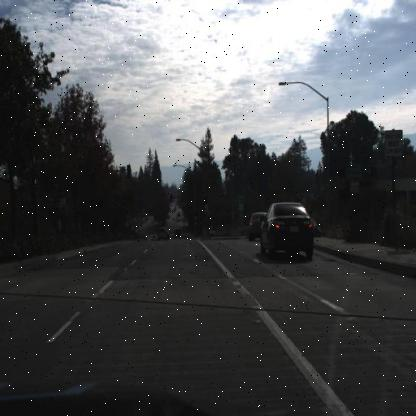car: (258, 199, 316, 263), (247, 204, 272, 248), (250, 210, 268, 242), (306, 212, 323, 240), (209, 223, 230, 240), (154, 224, 168, 242), (172, 226, 182, 238)
trafficLight-Green: (202, 193, 209, 214), (169, 194, 174, 208)
